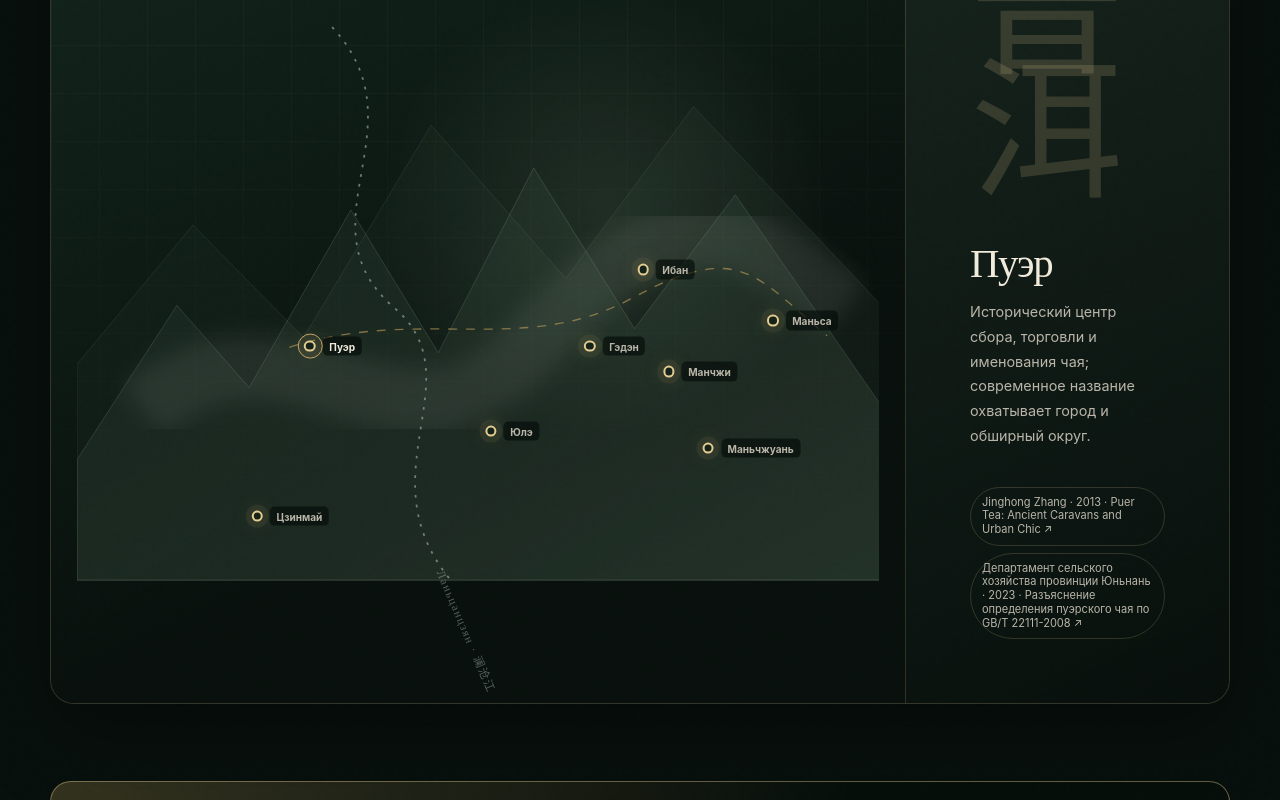
Test: TeaMountainsMap › does not present a general historical taste phrase as Zhao's Manzhuan tasting note
(page scrolled)
Click the button "Маньчжуань".
click(751, 448)  # box x1=697 y1=433 x2=806 y2=464
(page scrolled)
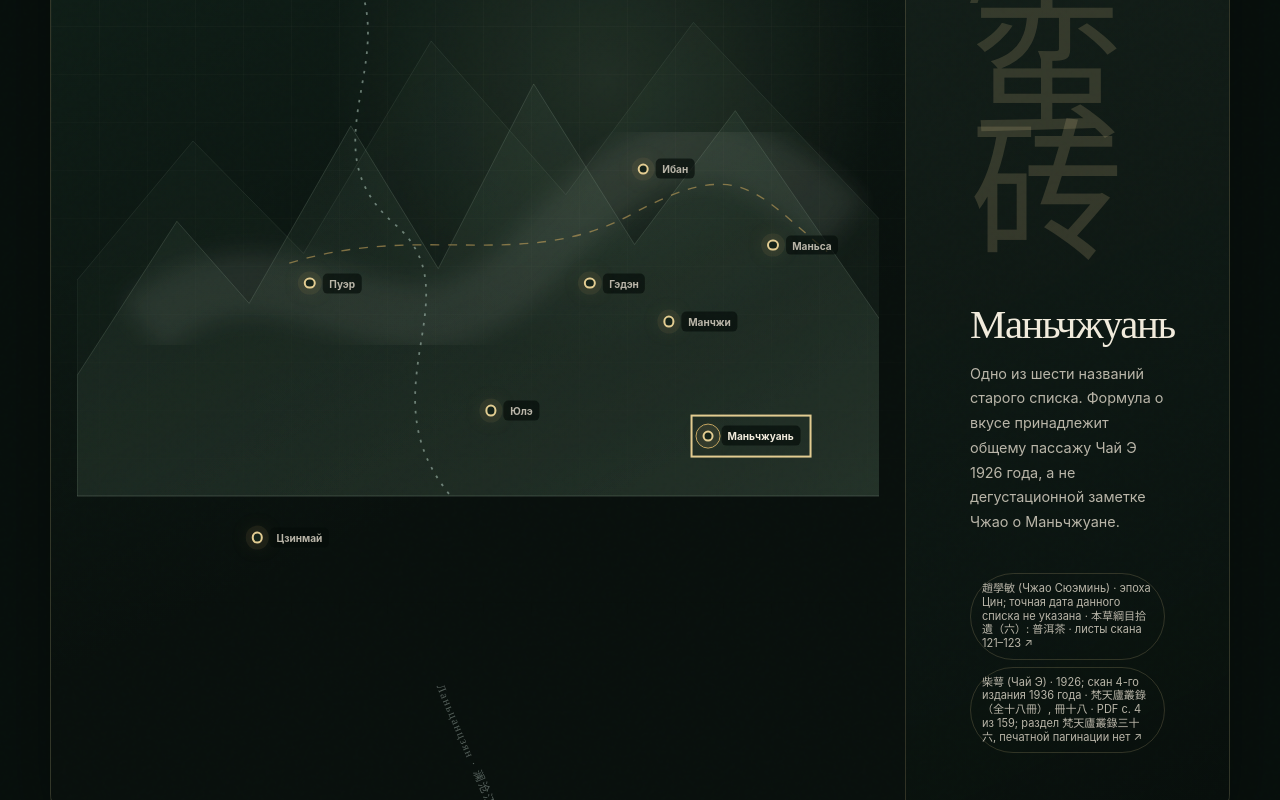
Check: the heading "Маньчжуань" is shown, box x1=970 y1=304 x2=1165 y2=347
